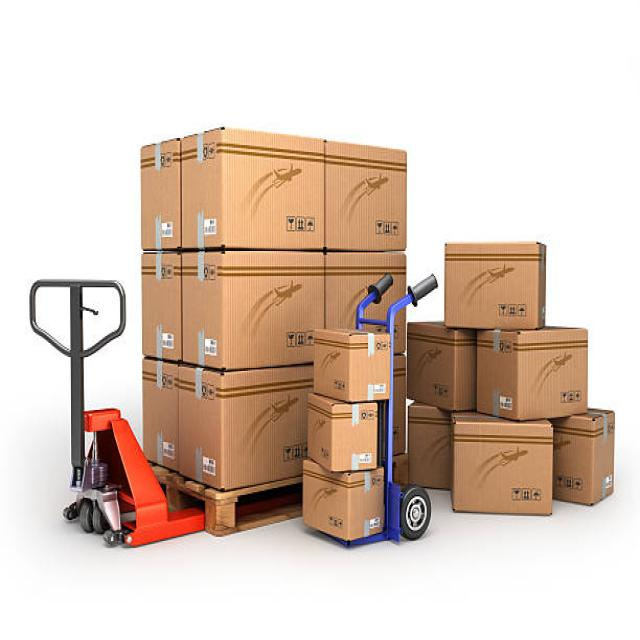Wooden-Pallets: (171, 474, 307, 538)
